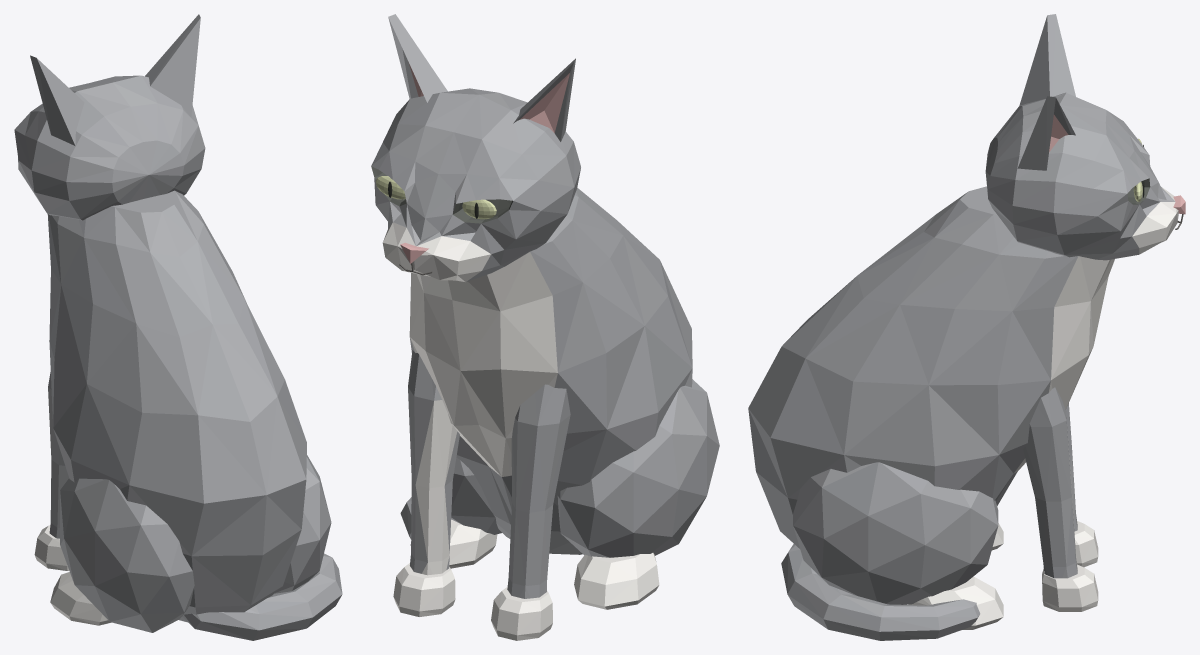
The model's file is cat_fit_r9.glb.
3 renders of one model, left to right at view 1: azimuth 30°, elevation 25°; view 2: azimuth 150°, elevation 25°; view 3: azimuth 270°, elevation 25°, orthographic. The views are drawn at different scales.
Visible parts, largest first — view 1: Rounded_Torso_MASTER, Sculpted_Head_MASTER, Haunch_Right_MASTER, Curled_tail_MASTER, Haunch_Left_MASTER, Thick_Ear_Left_MASTER, Thick_Ear_Right_MASTER, Hind_paw_Right_MASTER, Foreleg_Right_MASTER, Front_paw_Right_MASTER; view 2: Rounded_Torso_MASTER, Sculpted_Head_MASTER, Haunch_Right_MASTER, Foreleg_Right_MASTER, Foreleg_Left_MASTER, Hind_paw_Right_MASTER, Front_paw_Left_MASTER, Front_paw_Right_MASTER, Thick_Ear_Right_MASTER, Haunch_Left_MASTER, Thick_Ear_Left_MASTER, Hind_paw_Left_MASTER (+1 smaller); view 3: Rounded_Torso_MASTER, Haunch_Left_MASTER, Sculpted_Head_MASTER, Curled_tail_MASTER, Foreleg_Left_MASTER, Thick_Ear_Right_MASTER, Thick_Ear_Left_MASTER, Front_paw_Left_MASTER, Hind_paw_Left_MASTER, Front_paw_Right_MASTER.
Boxes of the visible parts, x1,y1,x2,y2 form: Rounded_Torso_MASTER: (47, 190, 306, 622); Sculpted_Head_MASTER: (14, 75, 205, 220); Haunch_Right_MASTER: (60, 478, 194, 632); Curled_tail_MASTER: (182, 553, 342, 640); Haunch_Left_MASTER: (274, 455, 331, 593); Thick_Ear_Left_MASTER: (145, 14, 200, 117); Thick_Ear_Right_MASTER: (30, 55, 84, 145); Hind_paw_Right_MASTER: (50, 572, 111, 625); Foreleg_Right_MASTER: (48, 372, 68, 538); Front_paw_Right_MASTER: (34, 525, 69, 570); Rounded_Torso_MASTER: (409, 188, 692, 554); Sculpted_Head_MASTER: (371, 88, 580, 281); Haunch_Right_MASTER: (557, 379, 719, 557); Foreleg_Right_MASTER: (507, 384, 570, 598); Foreleg_Left_MASTER: (408, 350, 459, 575); Hind_paw_Right_MASTER: (574, 553, 659, 609); Front_paw_Left_MASTER: (393, 563, 455, 616); Front_paw_Right_MASTER: (491, 587, 552, 640); Thick_Ear_Right_MASTER: (513, 58, 575, 141); Haunch_Left_MASTER: (451, 457, 501, 534); Thick_Ear_Left_MASTER: (388, 14, 447, 102); Hind_paw_Left_MASTER: (410, 519, 497, 568); Rounded_Torso_MASTER: (748, 186, 1114, 548); Haunch_Left_MASTER: (793, 462, 998, 604); Sculpted_Head_MASTER: (985, 92, 1178, 260); Curled_tail_MASTER: (781, 544, 980, 640); Foreleg_Left_MASTER: (1023, 387, 1077, 578); Thick_Ear_Right_MASTER: (1019, 14, 1075, 105); Thick_Ear_Left_MASTER: (1017, 96, 1075, 170); Front_paw_Left_MASTER: (1042, 564, 1098, 611); Hind_paw_Left_MASTER: (908, 576, 1003, 629); Front_paw_Right_MASTER: (1074, 521, 1098, 567).
Bounding box in the file's own units: 0.0762 × 0.15 × 0.1134.
